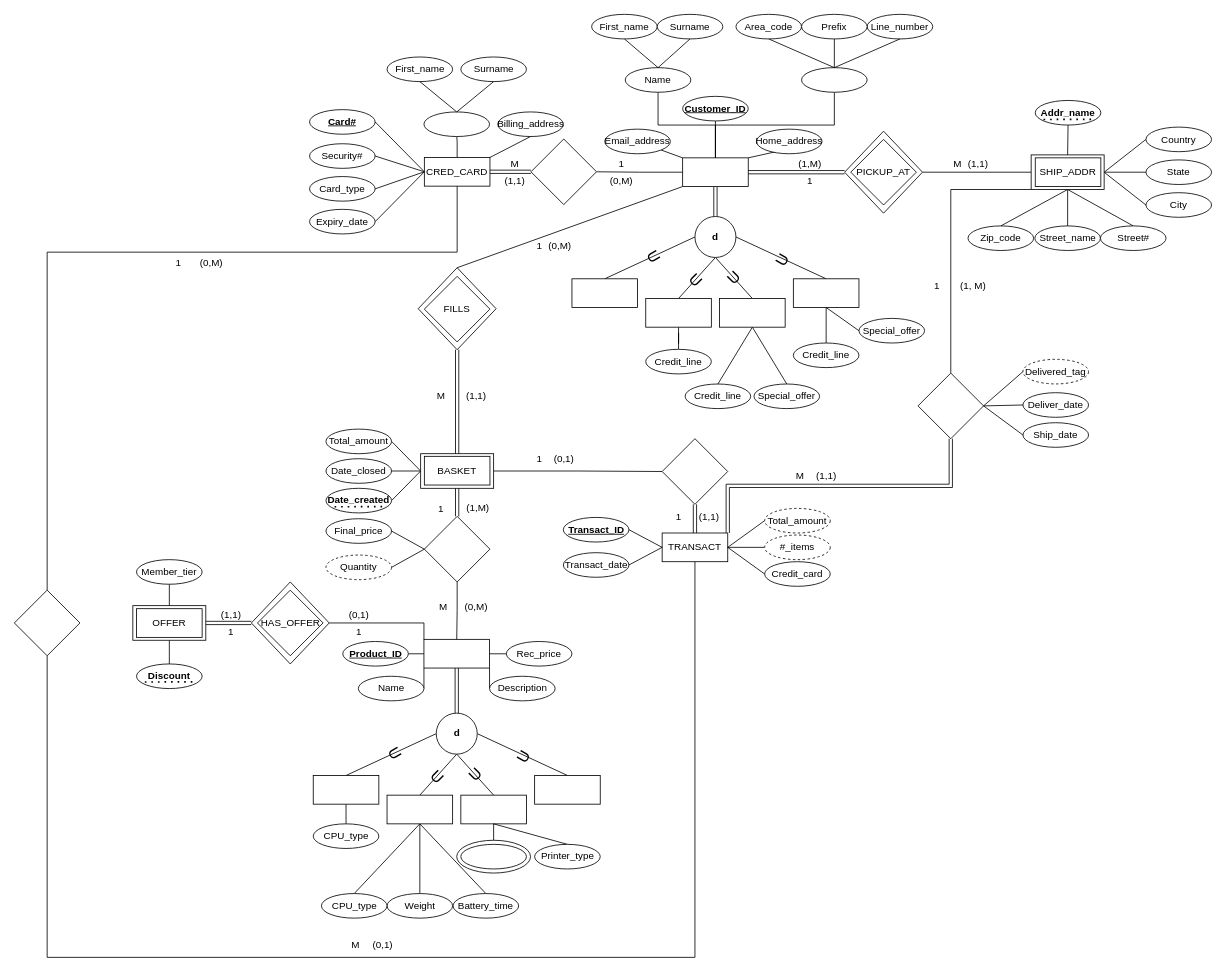
Some shapes in this 1226 by 973 pixel diagram are drawn without their labels. The centre of each missing label's shape, as x and y in pixels:
"CHECKOUT" belongs at (x=694, y=471).
"CUSTOMER" belongs at (x=715, y=172).
"DESKTOP" belongs at (x=345, y=789).
"FILLED" belongs at (x=457, y=549).
"GOLD" belongs at (x=752, y=312).
"LAPTOP" belongs at (x=419, y=809).
"OTHER" belongs at (x=567, y=789).
"Owner_name" belongs at (x=456, y=124).
"OWNS" belongs at (x=563, y=171).
"PAYS_WITH" belongs at (x=47, y=622).
"Phone#" belongs at (x=834, y=79).
"PLATINUM" belongs at (x=826, y=293).
"PRINTER" belongs at (x=493, y=809).
"PRODUCT" belongs at (x=456, y=653).
"REGULAR" belongs at (x=604, y=293).
"SHIPS_TO" belongs at (x=950, y=405).
"SILVER" belongs at (x=678, y=312).
"Solutions" belongs at (x=493, y=856).
